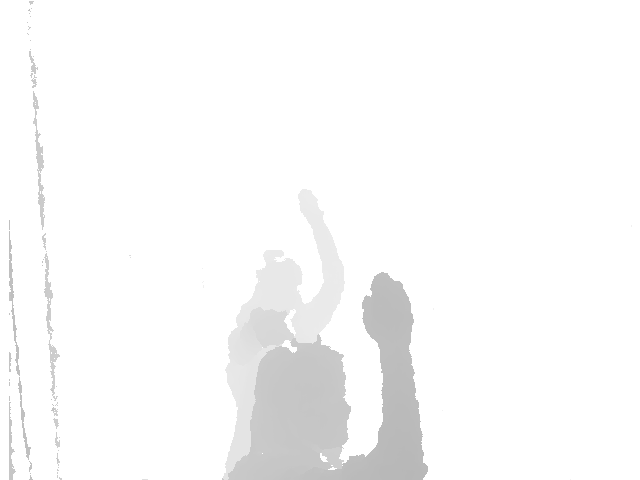hand: (362, 272, 413, 345), (298, 187, 324, 220)
head: (251, 339, 348, 464), (248, 249, 304, 309)
person: (222, 272, 427, 480), (224, 187, 345, 480)
